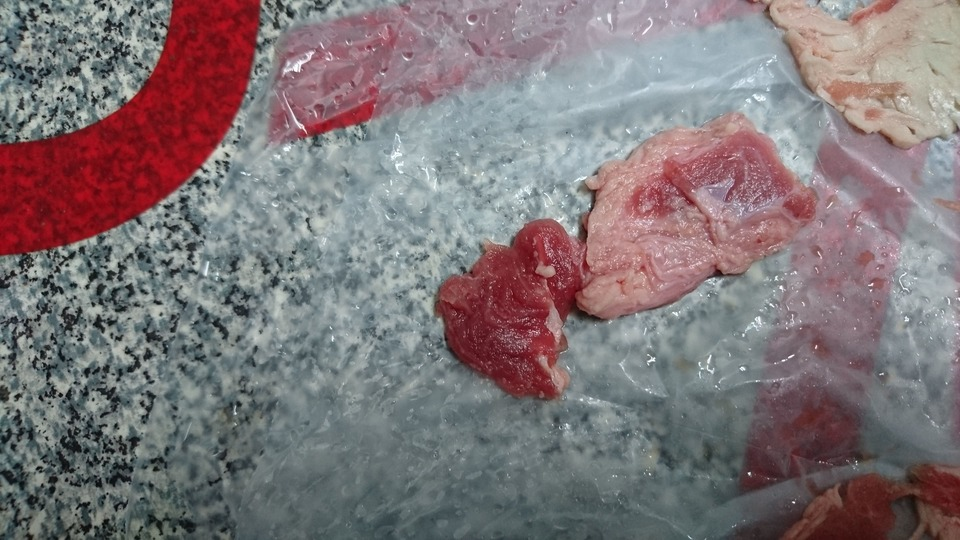restructured meat: (436, 111, 819, 391)
